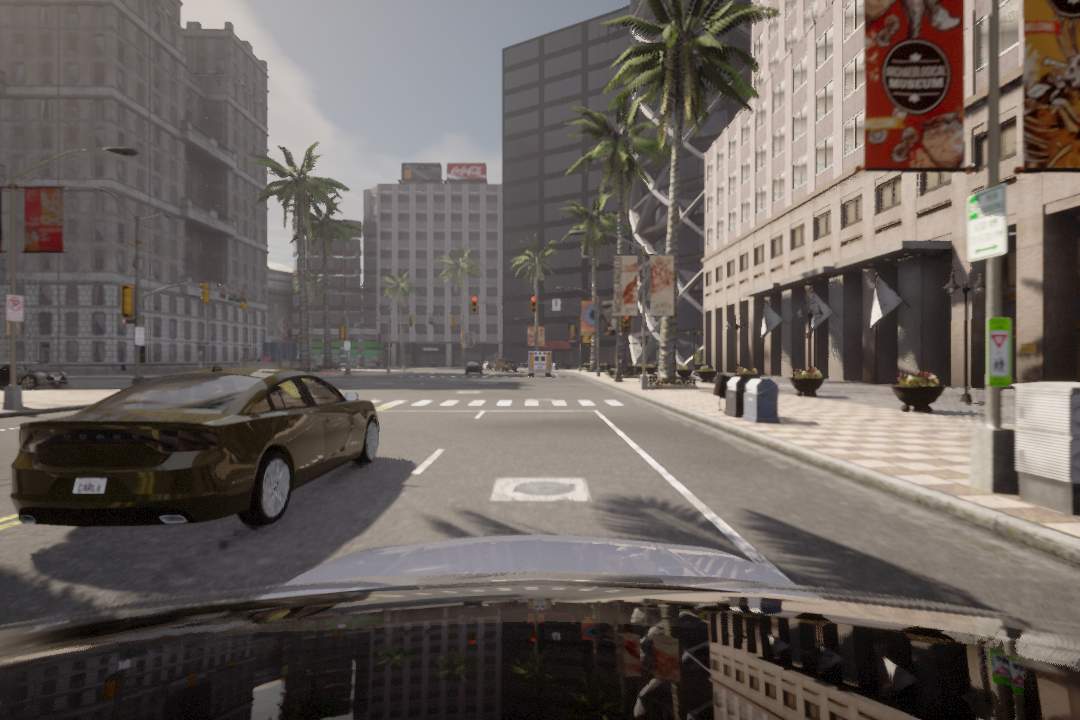TrafficLight: (468, 294, 480, 314), (529, 294, 539, 313)
TrafficSign_nstop: (5, 294, 26, 322)
walkside: (363, 394, 636, 410)
